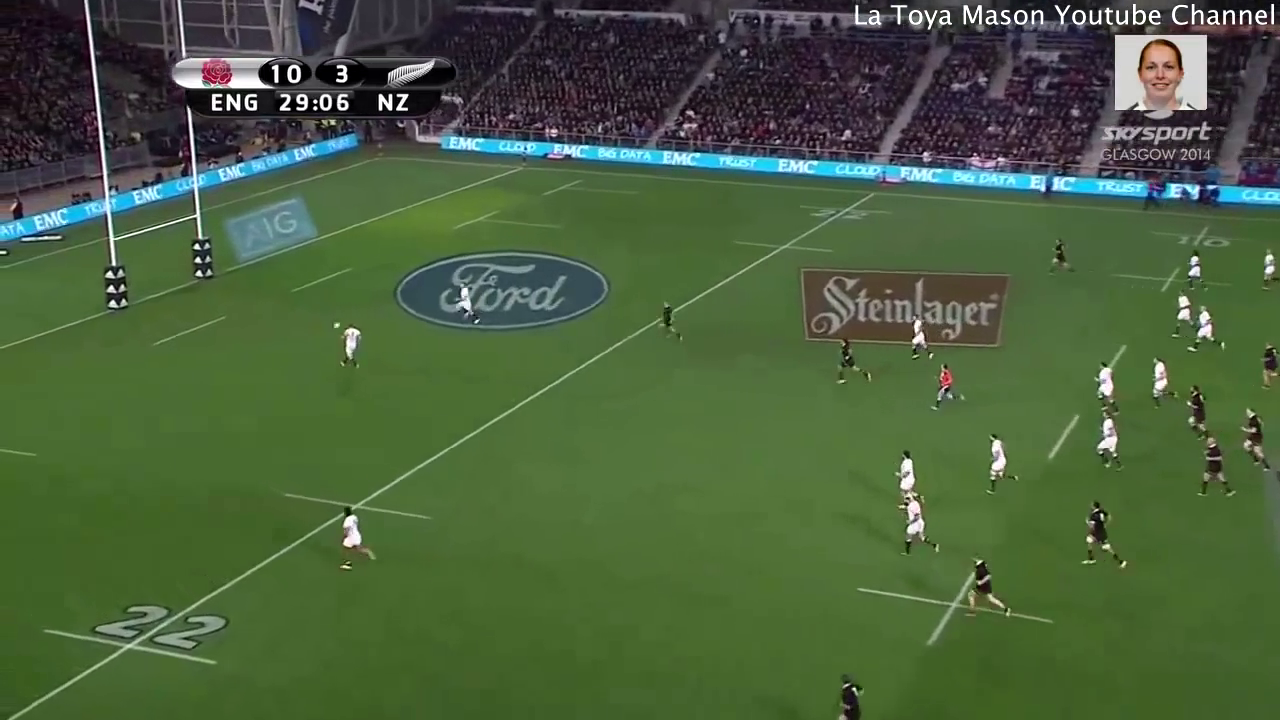10_metre: (856, 556, 1053, 650), (1115, 257, 1216, 301), (1158, 217, 1239, 257)
ball: (329, 319, 341, 332)
player: (1079, 499, 1133, 574), (966, 558, 1012, 623), (1234, 406, 1274, 480), (336, 502, 378, 572), (983, 432, 1024, 495), (829, 334, 873, 390), (1196, 436, 1235, 498), (1188, 305, 1229, 360), (900, 495, 934, 557), (1087, 359, 1125, 410), (1090, 411, 1122, 471), (331, 323, 369, 370), (1147, 355, 1179, 410), (931, 364, 965, 415), (657, 298, 688, 347), (1253, 336, 1280, 392), (901, 315, 933, 360), (1045, 235, 1076, 280), (450, 282, 480, 328), (1184, 383, 1209, 438), (1257, 245, 1280, 301), (1169, 288, 1193, 340), (891, 447, 920, 488), (1184, 248, 1209, 295)
post: (79, 116, 223, 316)
